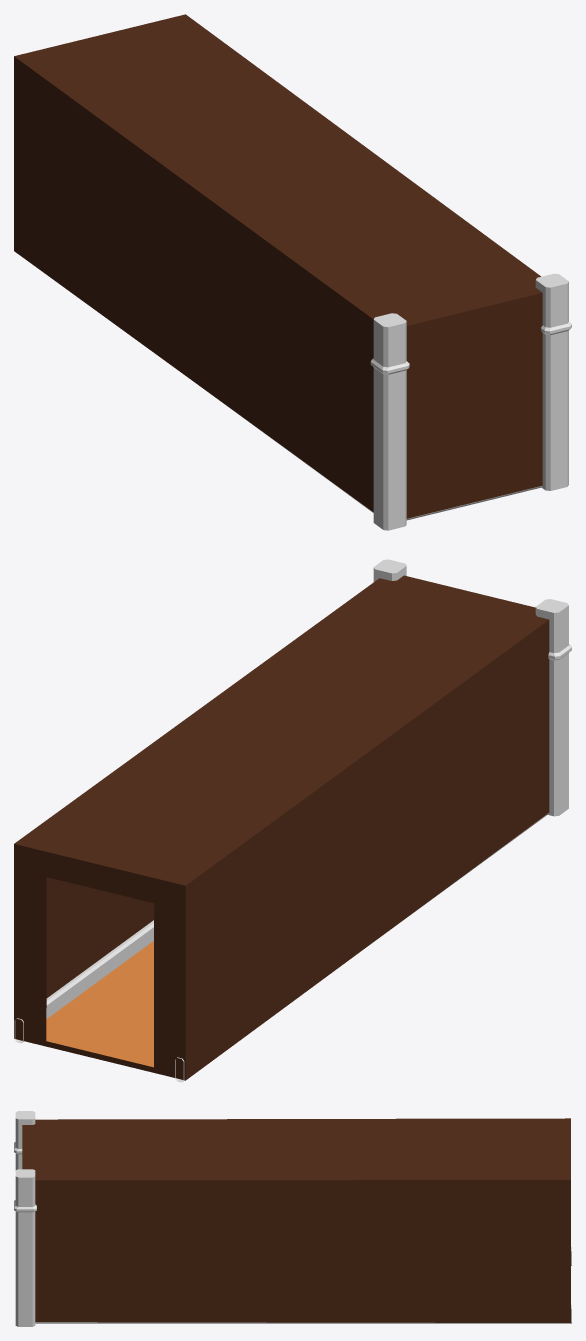
File: DeadEndExit.fbx
3 renders of one model, top to bottom at view 1: azimuth 30°, elevation 25°; view 2: azimuth 150°, elevation 25°; view 3: azimuth 270°, elevation 25°, orthographic. The views are drawn at different scales.
Visible parts, largest first — view 1: DeadEndExitU, EdgePillarU.001; view 2: DeadEndExitU, EdgePillarU.001, LongRailS.002; view 3: DeadEndExitU, EdgePillarU.001, LongRailS.002.
Boxes of the visible parts, x1=… form: DeadEndExitU: x1=14, y1=14, x2=542, y2=518; EdgePillarU.001: x1=370, y1=273, x2=571, y2=530; DeadEndExitU: x1=14, y1=575, x2=549, y2=1080; EdgePillarU.001: x1=373, y1=559, x2=571, y2=816; LongRailS.002: x1=14, y1=813, x2=548, y2=1082; DeadEndExitU: x1=22, y1=1118, x2=570, y2=1322; EdgePillarU.001: x1=14, y1=1111, x2=36, y2=1326; LongRailS.002: x1=35, y1=1247, x2=571, y2=1323.
Size of the model in its own units: 256 by 263 by 889.
